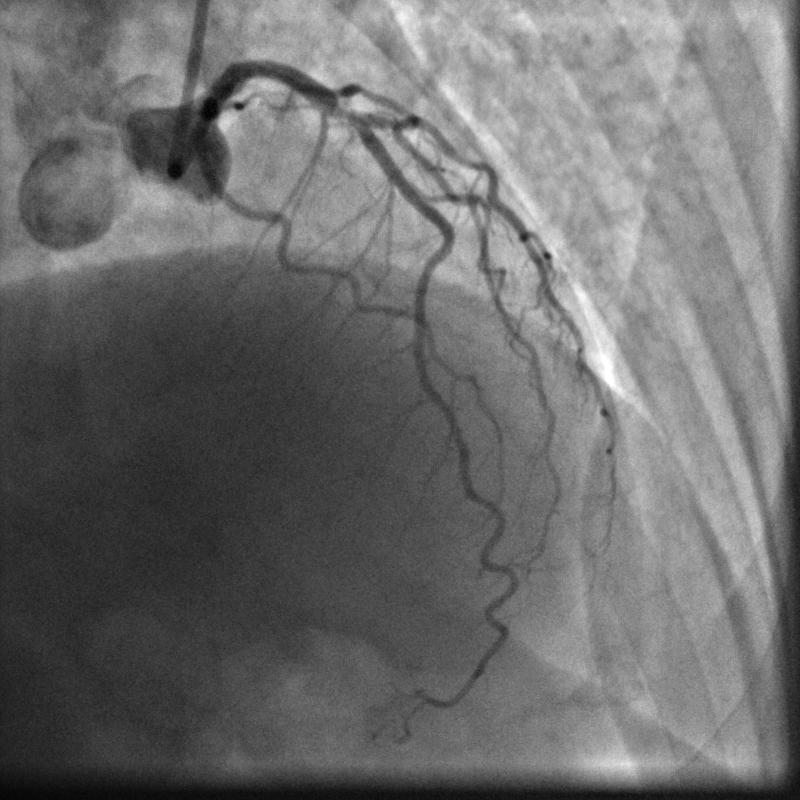Stenosis: (336, 98, 359, 130)
